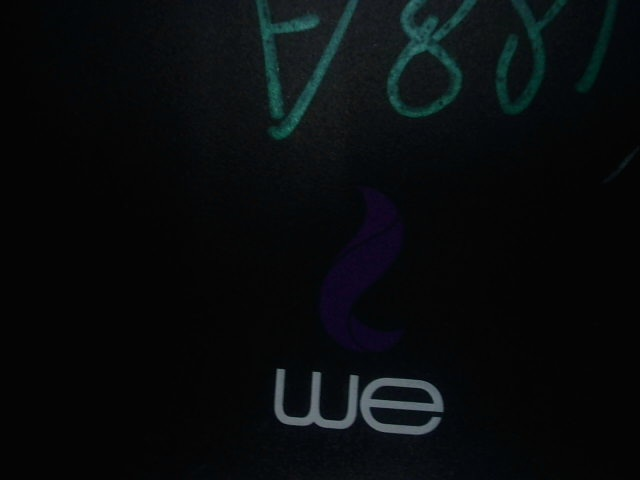AT_We: (237, 176, 465, 440)
